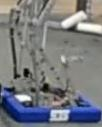blue_number: (47, 108, 71, 123)
